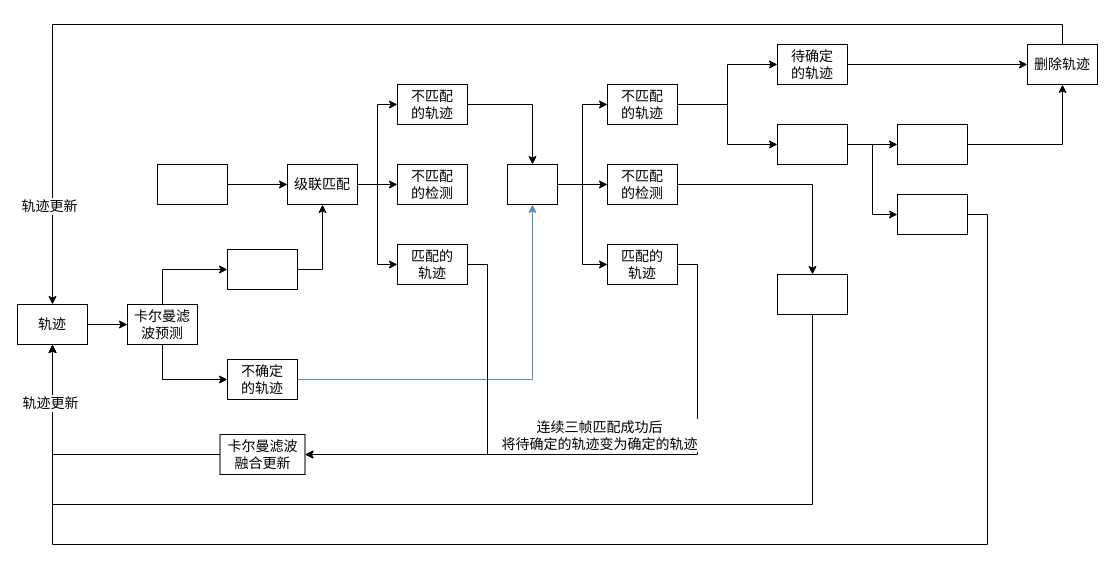
Image size: 1115x570. Some labels were removed from this diagram. The shapes that lost their labels are listed below. From the top down, each one's centre as x and y in pixels, then its label:
pixel 812 144: 已确定 的轨迹
pixel 932 144: 大于最大 保留帧数
pixel 192 184: 目标检测
pixel 532 184: GWD 匹配
pixel 932 214: 小于最大 保留帧数
pixel 262 269: 确定的轨迹
pixel 812 294: 新的 待定轨迹
